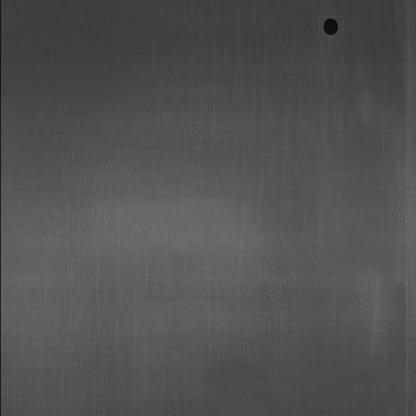punching_hole: (318, 15, 341, 38)
